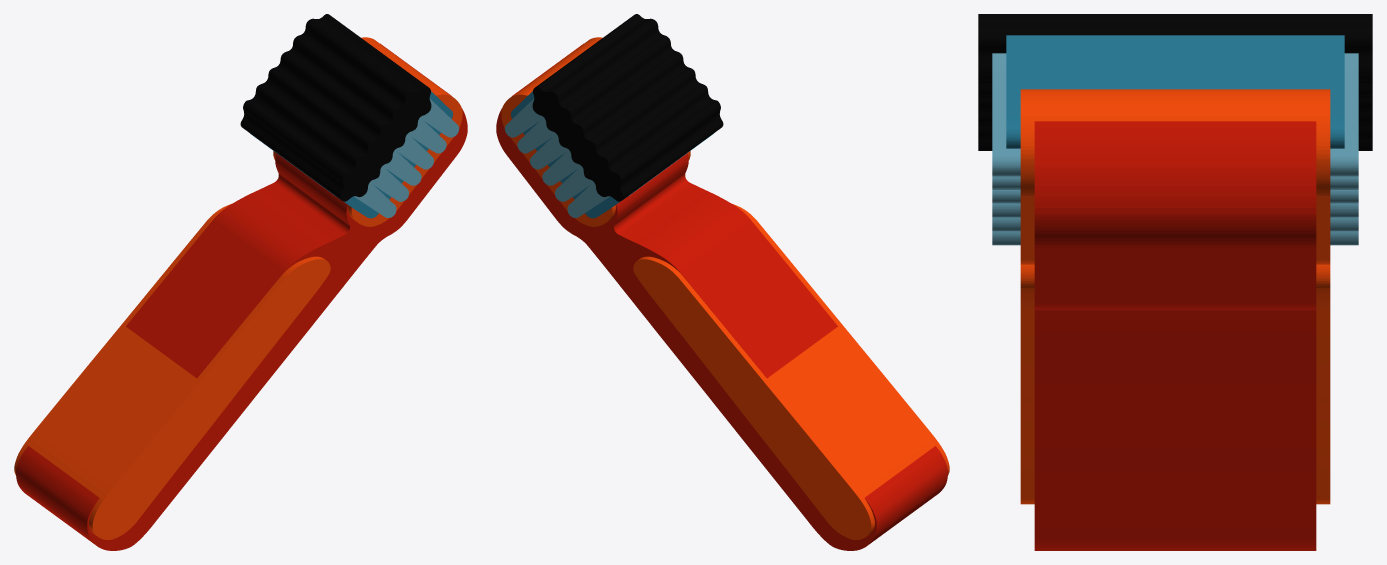
Rendered from U+1FAA5.obj.
3 views of the same model, side by side, from view 1: azimuth 30°, elevation 25°; view 2: azimuth 150°, elevation 25°; view 3: azimuth 270°, elevation 25° (orthographic). The views are drawn at different scales.
Parts seen in each view (by area): view 1: U+1FAA5_layer00_obj00, U+1FAA5_layer01_obj01, U+1FAA5_layer04_obj00, U+1FAA5_layer01_obj00, U+1FAA5_layer03_obj05, U+1FAA5_layer03_obj00, U+1FAA5_layer03_obj01, U+1FAA5_layer03_obj02, U+1FAA5_layer03_obj04, U+1FAA5_layer03_obj03; view 2: U+1FAA5_layer00_obj00, U+1FAA5_layer01_obj01, U+1FAA5_layer04_obj00, U+1FAA5_layer01_obj00, U+1FAA5_layer03_obj00, U+1FAA5_layer03_obj05, U+1FAA5_layer03_obj01, U+1FAA5_layer03_obj02, U+1FAA5_layer03_obj04, U+1FAA5_layer03_obj03; view 3: U+1FAA5_layer00_obj00, U+1FAA5_layer02_obj02, U+1FAA5_layer01_obj00, U+1FAA5_layer04_obj00, U+1FAA5_layer01_obj01, U+1FAA5_layer03_obj00, U+1FAA5_layer03_obj01, U+1FAA5_layer03_obj04, U+1FAA5_layer03_obj05, U+1FAA5_layer03_obj02, U+1FAA5_layer03_obj03.
Boxes of the visible parts, x1=… form: U+1FAA5_layer00_obj00: x1=16, y1=43, x2=467, y2=550; U+1FAA5_layer01_obj01: x1=14, y1=204, x2=330, y2=539; U+1FAA5_layer04_obj00: x1=240, y1=14, x2=431, y2=201; U+1FAA5_layer01_obj00: x1=273, y1=37, x2=462, y2=226; U+1FAA5_layer03_obj05: x1=354, y1=182, x2=396, y2=217; U+1FAA5_layer03_obj00: x1=420, y1=99, x2=459, y2=137; U+1FAA5_layer03_obj01: x1=383, y1=150, x2=421, y2=185; U+1FAA5_layer03_obj02: x1=407, y1=117, x2=446, y2=153; U+1FAA5_layer03_obj04: x1=370, y1=166, x2=408, y2=201; U+1FAA5_layer03_obj03: x1=395, y1=134, x2=433, y2=169; U+1FAA5_layer00_obj00: x1=496, y1=43, x2=947, y2=550; U+1FAA5_layer01_obj01: x1=633, y1=204, x2=949, y2=539; U+1FAA5_layer04_obj00: x1=532, y1=14, x2=723, y2=201; U+1FAA5_layer01_obj00: x1=501, y1=37, x2=690, y2=226; U+1FAA5_layer03_obj00: x1=504, y1=99, x2=543, y2=137; U+1FAA5_layer03_obj05: x1=567, y1=182, x2=609, y2=217; U+1FAA5_layer03_obj01: x1=542, y1=150, x2=580, y2=185; U+1FAA5_layer03_obj02: x1=517, y1=118, x2=555, y2=153; U+1FAA5_layer03_obj04: x1=555, y1=166, x2=593, y2=201; U+1FAA5_layer03_obj03: x1=530, y1=134, x2=568, y2=169; U+1FAA5_layer00_obj00: x1=1034, y1=121, x2=1316, y2=550; U+1FAA5_layer02_obj02: x1=1006, y1=35, x2=1344, y2=148; U+1FAA5_layer01_obj00: x1=1020, y1=89, x2=1330, y2=264; U+1FAA5_layer04_obj00: x1=978, y1=14, x2=1372, y2=150; U+1FAA5_layer01_obj01: x1=1020, y1=264, x2=1330, y2=504; U+1FAA5_layer03_obj00: x1=992, y1=53, x2=1358, y2=176; U+1FAA5_layer03_obj01: x1=992, y1=203, x2=1358, y2=217; U+1FAA5_layer03_obj04: x1=992, y1=217, x2=1358, y2=231; U+1FAA5_layer03_obj05: x1=992, y1=231, x2=1358, y2=245; U+1FAA5_layer03_obj02: x1=992, y1=176, x2=1358, y2=189; U+1FAA5_layer03_obj03: x1=992, y1=190, x2=1358, y2=203.
Size of the model in its own units: 0.3085 by 0.312 by 0.14.
